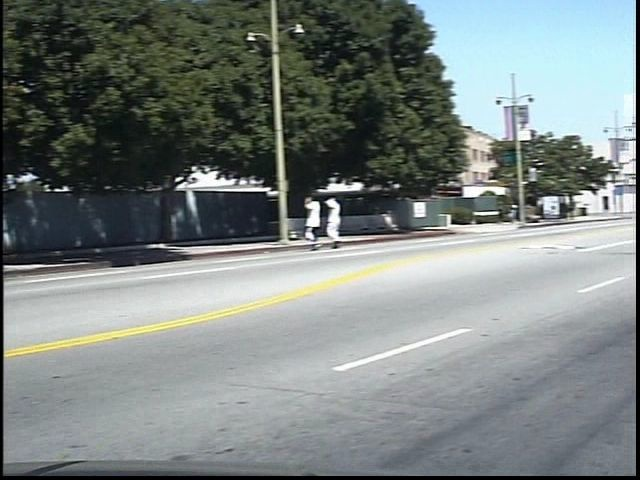person: (341, 194, 367, 255), (318, 193, 343, 255)
